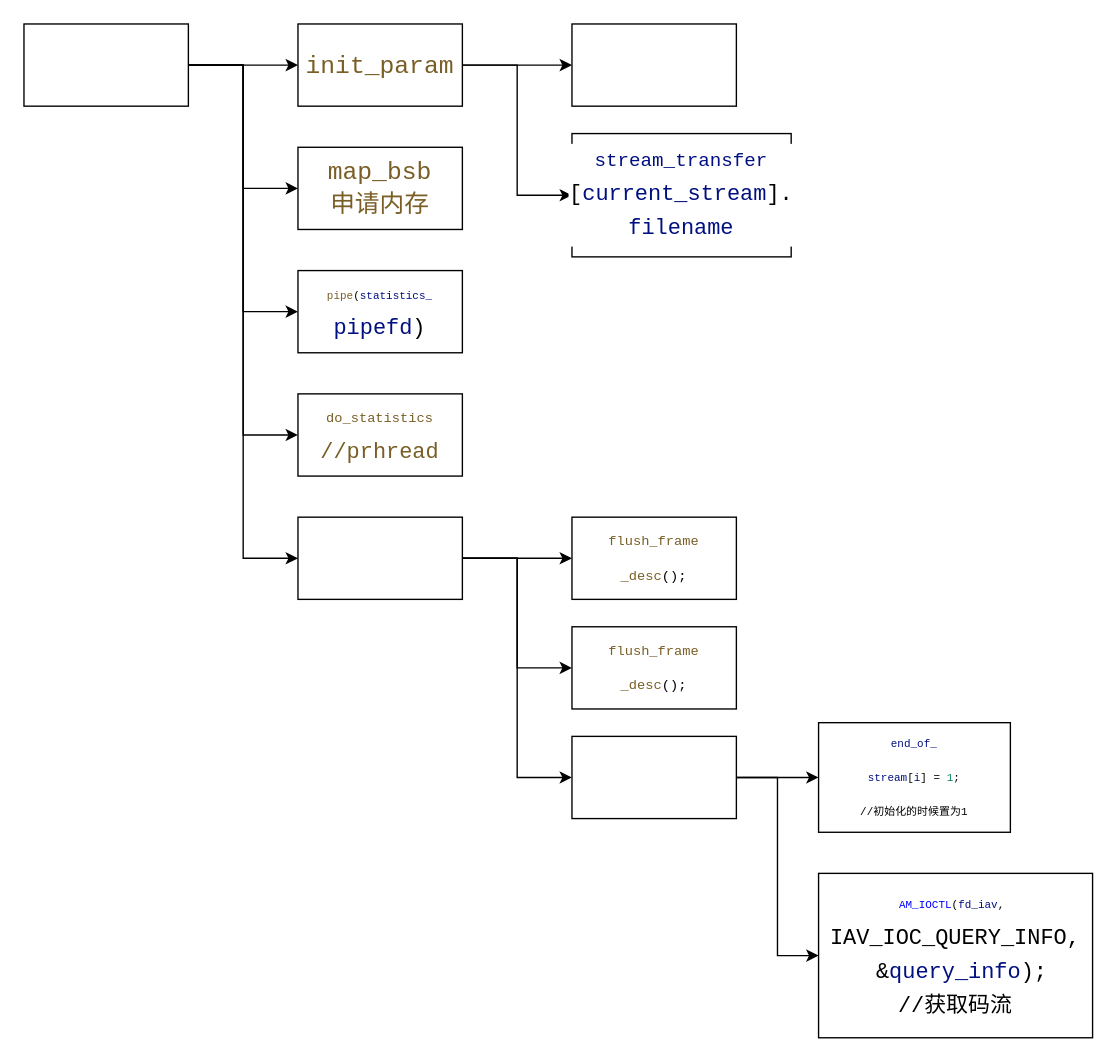
Image size: 1117x1062. Some labels were removed from this diagram. The box of each missing label's shape, as (x1, y1, x2, y2) in pixels:
capture_encoded _video: (297, 516, 462, 599)
current_ stream = 0: (571, 23, 736, 106)
main: (23, 23, 188, 106)
write_stream: (571, 735, 736, 819)
